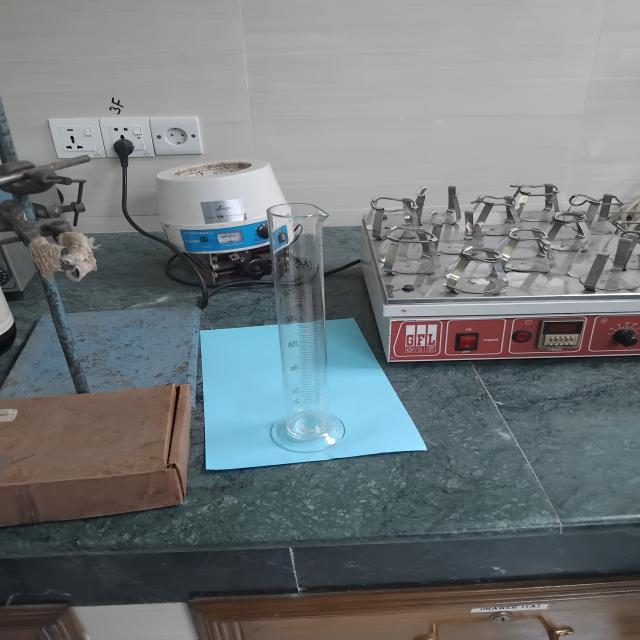Measuring_Cylinder: (215, 138, 382, 477)
